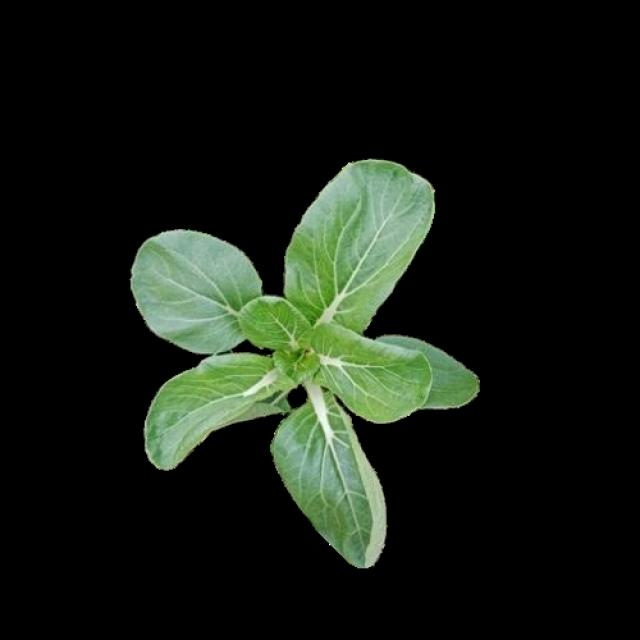healthy: (131, 176, 462, 568)
not-mature: (133, 161, 465, 571)
